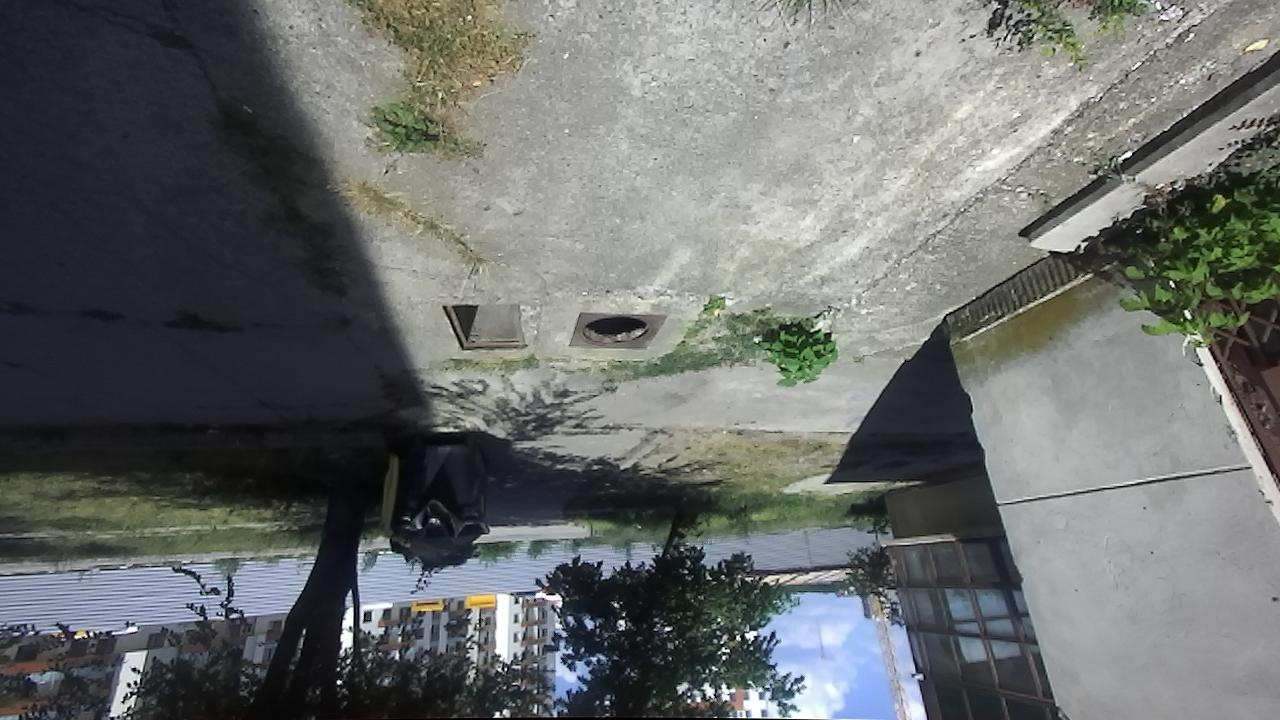drain: (439, 304, 531, 354), (577, 315, 654, 348)
